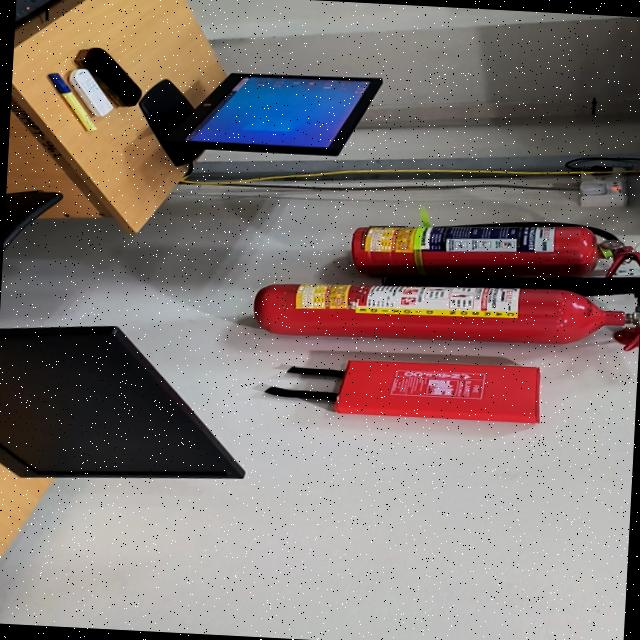Chair: (3, 190, 63, 252)
Fire Extinguisher: (254, 283, 640, 343), (352, 222, 607, 275)
Keyboard: (15, 0, 52, 22)
Monitor: (0, 325, 244, 477), (140, 72, 382, 165), (187, 75, 373, 147)
